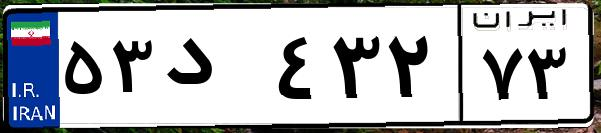2: (385, 28, 445, 110)
3: (330, 28, 385, 110), (525, 38, 570, 115), (110, 28, 158, 98)
4: (270, 28, 330, 110)
5: (57, 26, 110, 100)
7: (475, 38, 525, 113)
د: (158, 20, 270, 120)
